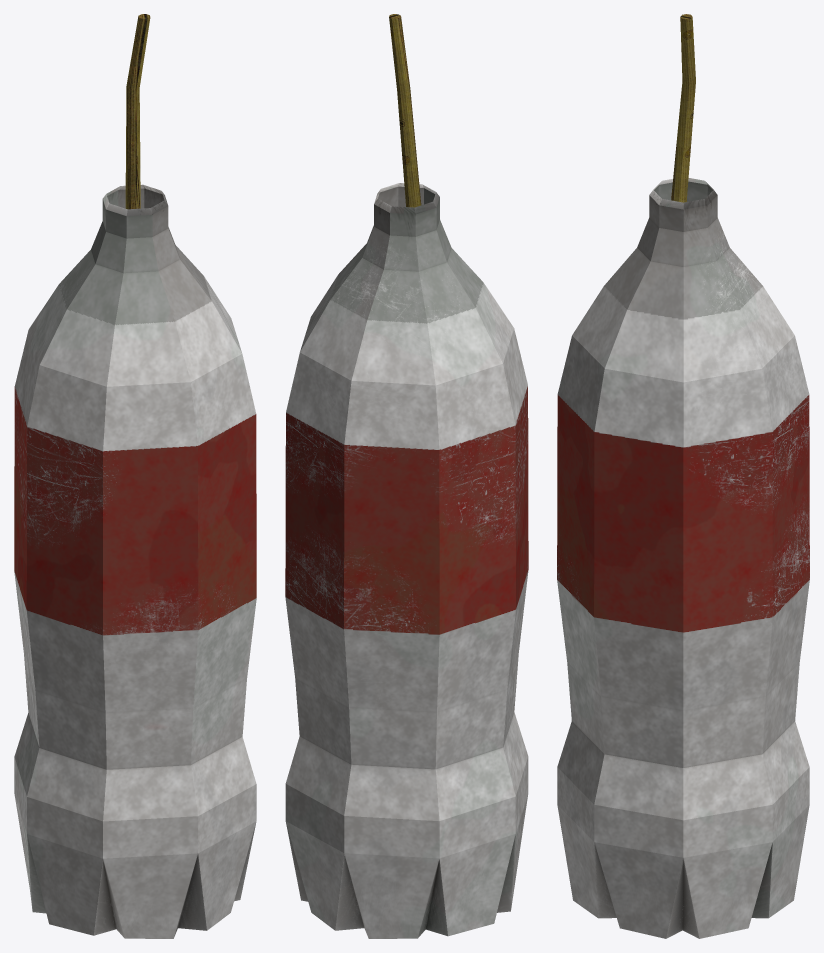
File: ITM_StickInABottle_RIte.fbx
3 views of the same model, side by side, from view 1: azimuth 30°, elevation 25°; view 2: azimuth 150°, elevation 25°; view 3: azimuth 270°, elevation 25° (orthographic).
Parts seen in each view (by area): view 1: PlasticBottle, Stick; view 2: PlasticBottle, Stick; view 3: PlasticBottle, Stick.
Part boxes in pixels (bbox=[...]): PlasticBottle: bbox=[14, 184, 256, 938]; Stick: bbox=[125, 14, 150, 209]; PlasticBottle: bbox=[285, 183, 528, 938]; Stick: bbox=[389, 14, 421, 207]; PlasticBottle: bbox=[557, 178, 809, 938]; Stick: bbox=[671, 14, 695, 202].
Size of the model in its own units: 1.42 by 5.47 by 1.42.
